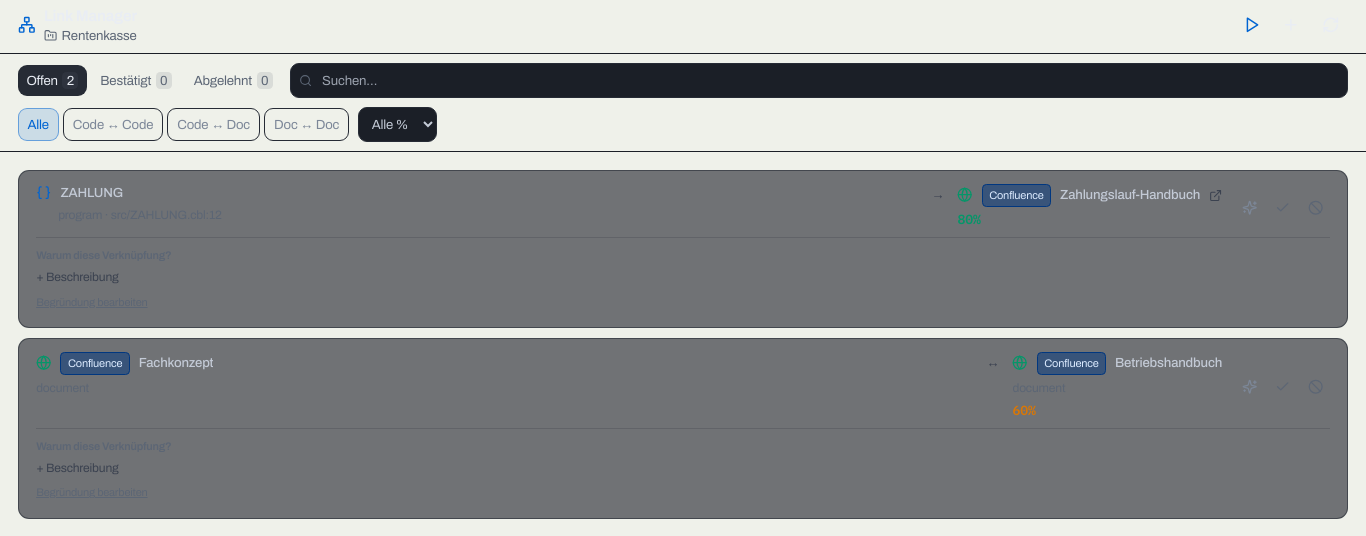
Test: LinkManagerView › Filterleiste › sucht über beide Seiten und die Bildunterschrift einer Karte
The width and height of the screenshot is (1366, 536).
Expected: the text "ZAHLUNG" is shown, [60,184,123,201]
// linke Seite
Step 1. Type "zahlung" into the search field with placeholder "Suchen…" → (819, 81), box [290,63,1348,98]
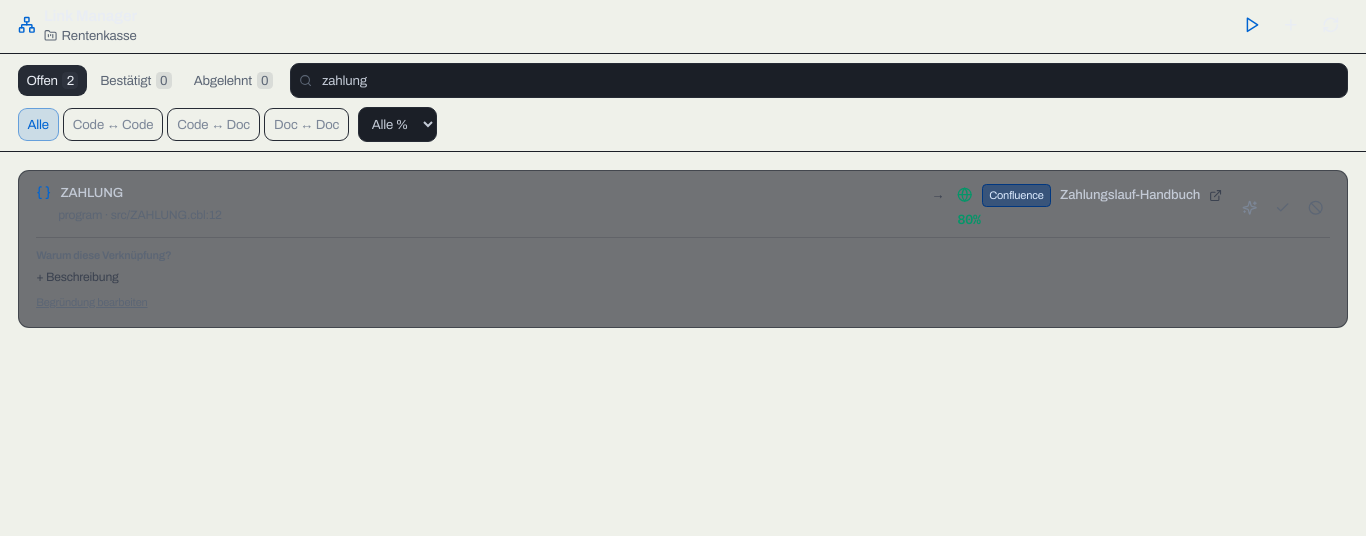
Expected: the text "ZAHLUNG" is shown, [60,184,123,201]
Now the text "Fachkonzept" is gone
// rechte Seite
Step 2. Replace the text in the search field with placeholder "Suchen…" with "betriebshandbuch" → (819, 81), box [290,63,1348,98]
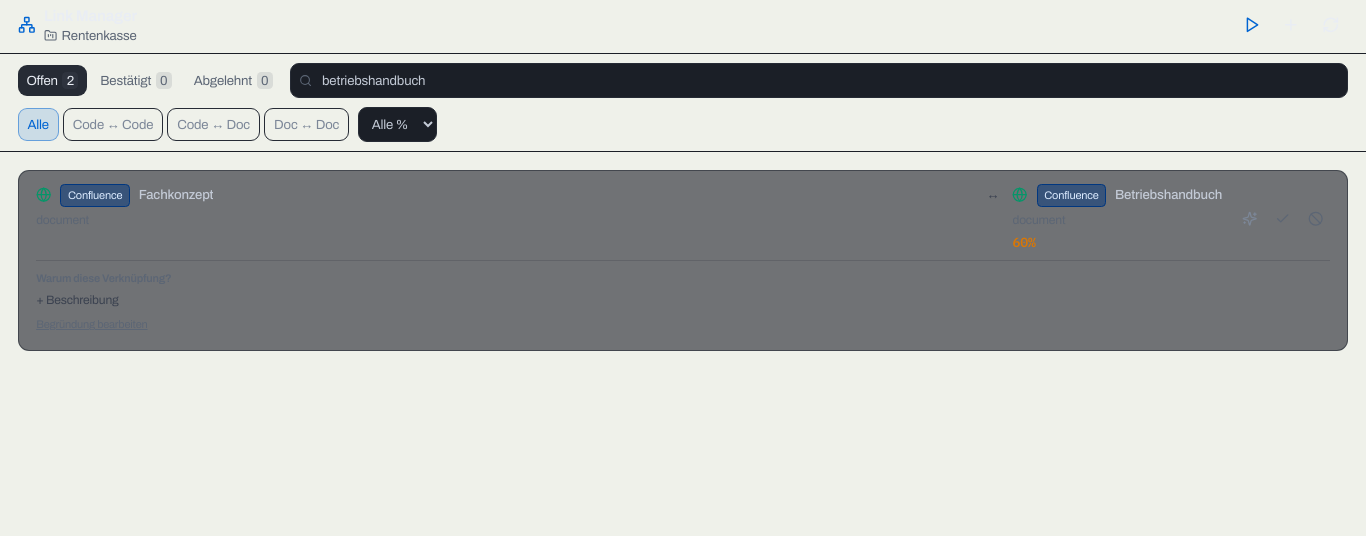
Now the text "ZAHLUNG" is gone
Now the text "Fachkonzept" is shown, box [139,186,214,204]
// Bildunterschrift (Dateipfad der Entity)
Step 3. Replace the text in the search field with placeholder "Suchen…" with "ZAHLUNG.cbl" → (819, 81), box [290,63,1348,98]
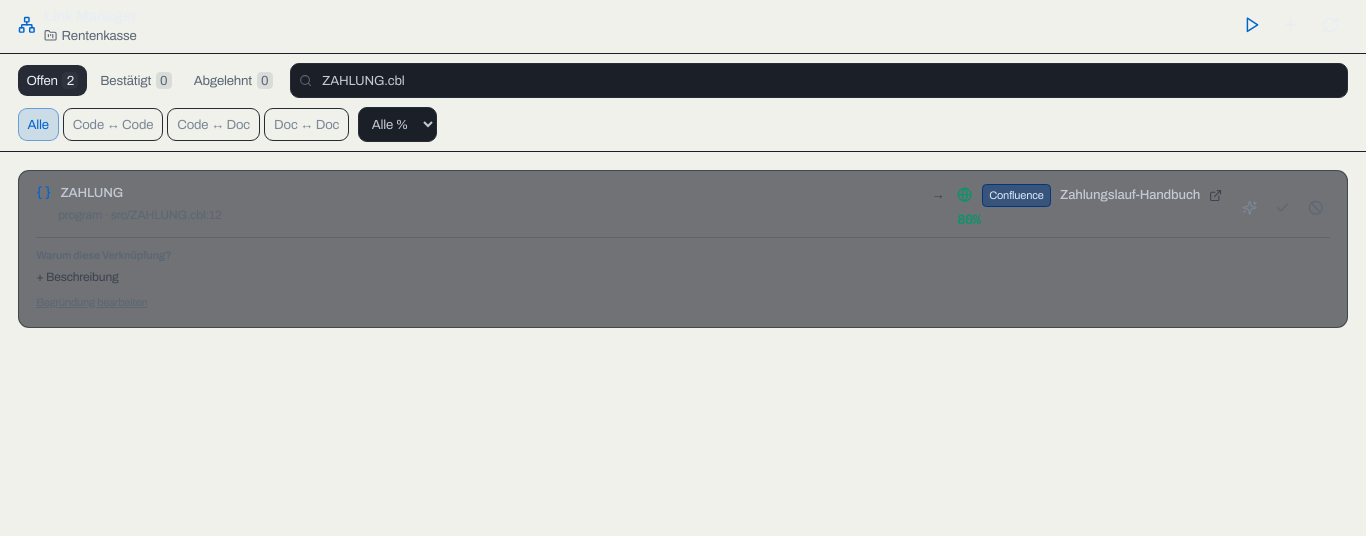
Now the text "ZAHLUNG" is shown, box [60,184,123,201]
Now the text "Fachkonzept" is gone
